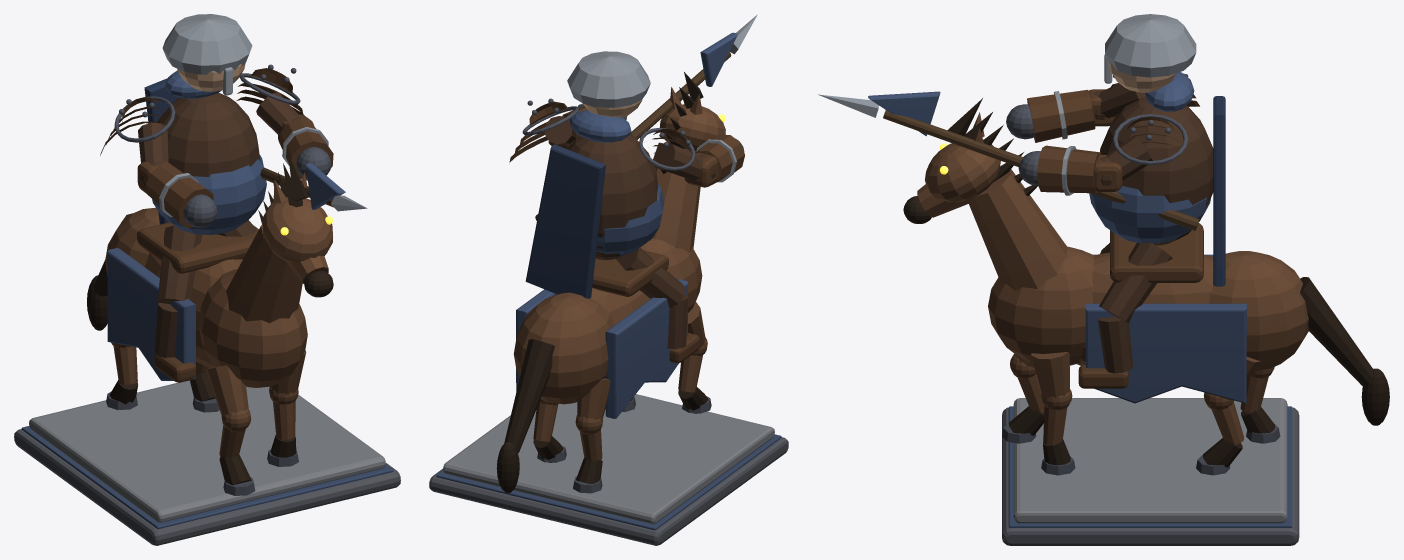
The model's file is cavalry.glb.
The picture shows the model from 3 angles, left to right: view 1: azimuth 30°, elevation 25°; view 2: azimuth 150°, elevation 25°; view 3: azimuth 270°, elevation 25°; orthographic projection. The views are drawn at different scales.
Parts seen in each view (by area): view 1: lstone, horse, owner, cloth2, leather, stone, steel, horse2, dark, skin, ownerDark; view 2: lstone, horse, owner, cloth2, ownerDark, stone, horse2, leather, steel, dark, dwood, skin; view 3: horse, lstone, owner, cloth2, leather, horse2, stone, steel, dark, ownerDark, dwood, skin.
Part boxes in pixels (x1=…): lstone: x1=29, y1=380, x2=385, y2=522; horse: x1=105, y1=172, x2=332, y2=457; owner: x1=21, y1=70, x2=393, y2=528; cloth2: x1=138, y1=92, x2=302, y2=357; leather: x1=100, y1=68, x2=333, y2=382; stone: x1=14, y1=429, x2=400, y2=545; steel: x1=159, y1=14, x2=367, y2=217; horse2: x1=87, y1=154, x2=333, y2=485; dark: x1=106, y1=64, x2=331, y2=495; skin: x1=177, y1=64, x2=245, y2=91; ownerDark: x1=144, y1=78, x2=179, y2=224; lstone: x1=443, y1=394, x2=774, y2=524; horse: x1=513, y1=87, x2=725, y2=460; owner: x1=436, y1=32, x2=781, y2=530; cloth2: x1=544, y1=116, x2=716, y2=348; ownerDark: x1=525, y1=144, x2=605, y2=298; stone: x1=429, y1=437, x2=788, y2=545; horse2: x1=496, y1=72, x2=708, y2=492; leather: x1=509, y1=101, x2=744, y2=363; steel: x1=567, y1=14, x2=757, y2=182; dark: x1=522, y1=98, x2=744, y2=493; dwood: x1=535, y1=52, x2=731, y2=220; skin: x1=583, y1=99, x2=642, y2=117; horse: x1=917, y1=112, x2=1308, y2=445; lstone: x1=1013, y1=398, x2=1287, y2=523; owner: x1=868, y1=72, x2=1292, y2=527; cloth2: x1=1093, y1=83, x2=1213, y2=373; leather: x1=1027, y1=83, x2=1203, y2=388; horse2: x1=903, y1=98, x2=1389, y2=467; stone: x1=1002, y1=407, x2=1299, y2=545; steel: x1=818, y1=14, x2=1196, y2=195; dark: x1=1002, y1=73, x2=1280, y2=475; ownerDark: x1=1213, y1=96, x2=1225, y2=286; dwood: x1=883, y1=110, x2=1199, y2=230; skin: x1=1108, y1=62, x2=1176, y2=92.
Size of the model in its own units: 0.779 by 1.34 by 1.5.
